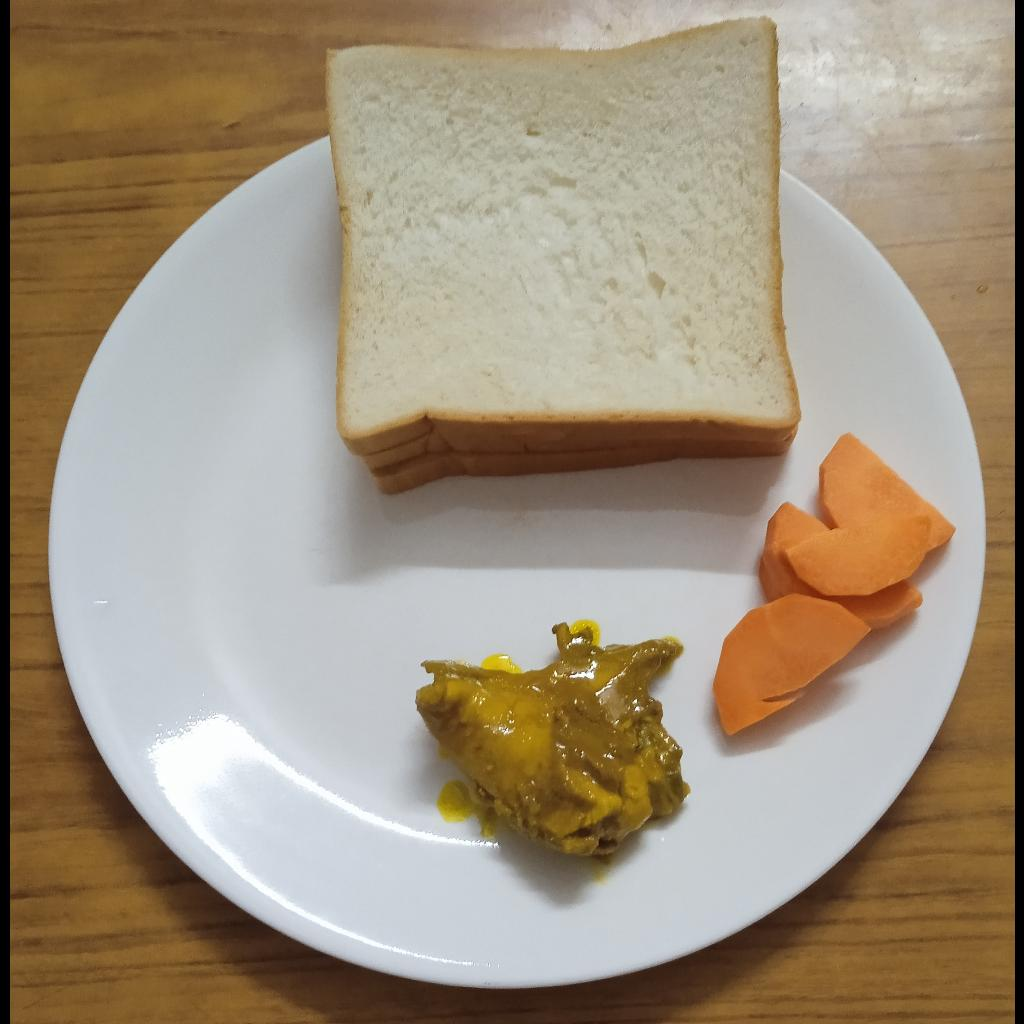bread: (319, 18, 797, 496)
carrot: (711, 433, 957, 737)
chicken: (416, 620, 688, 858)
